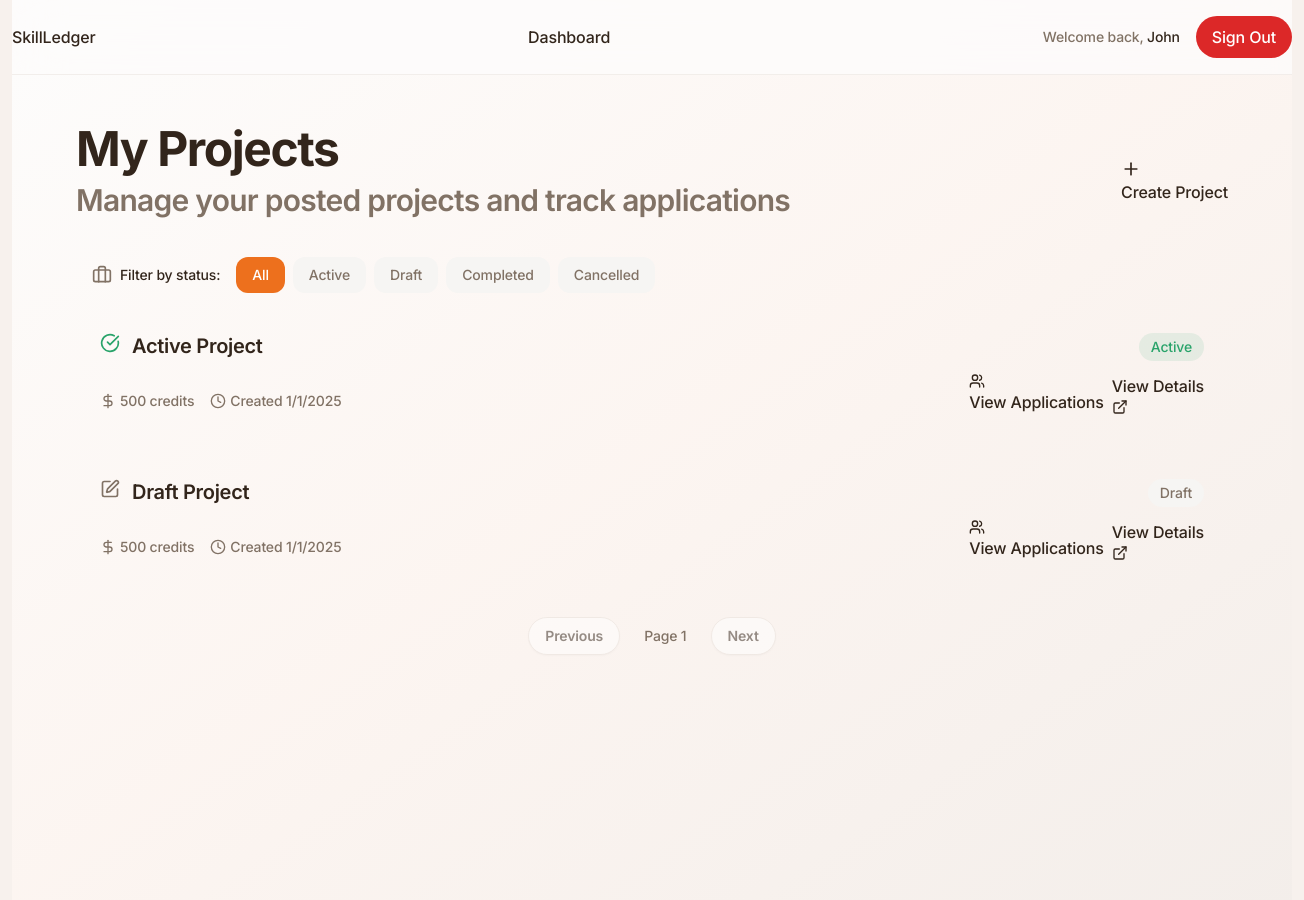
it: MyProjectsPage - Status Filtering › should filter projects by Active status
Expected: the heading "Active Project" is shown, [132,332,263,358]
Click the button "Active": (329, 274) [293,256,366,292]
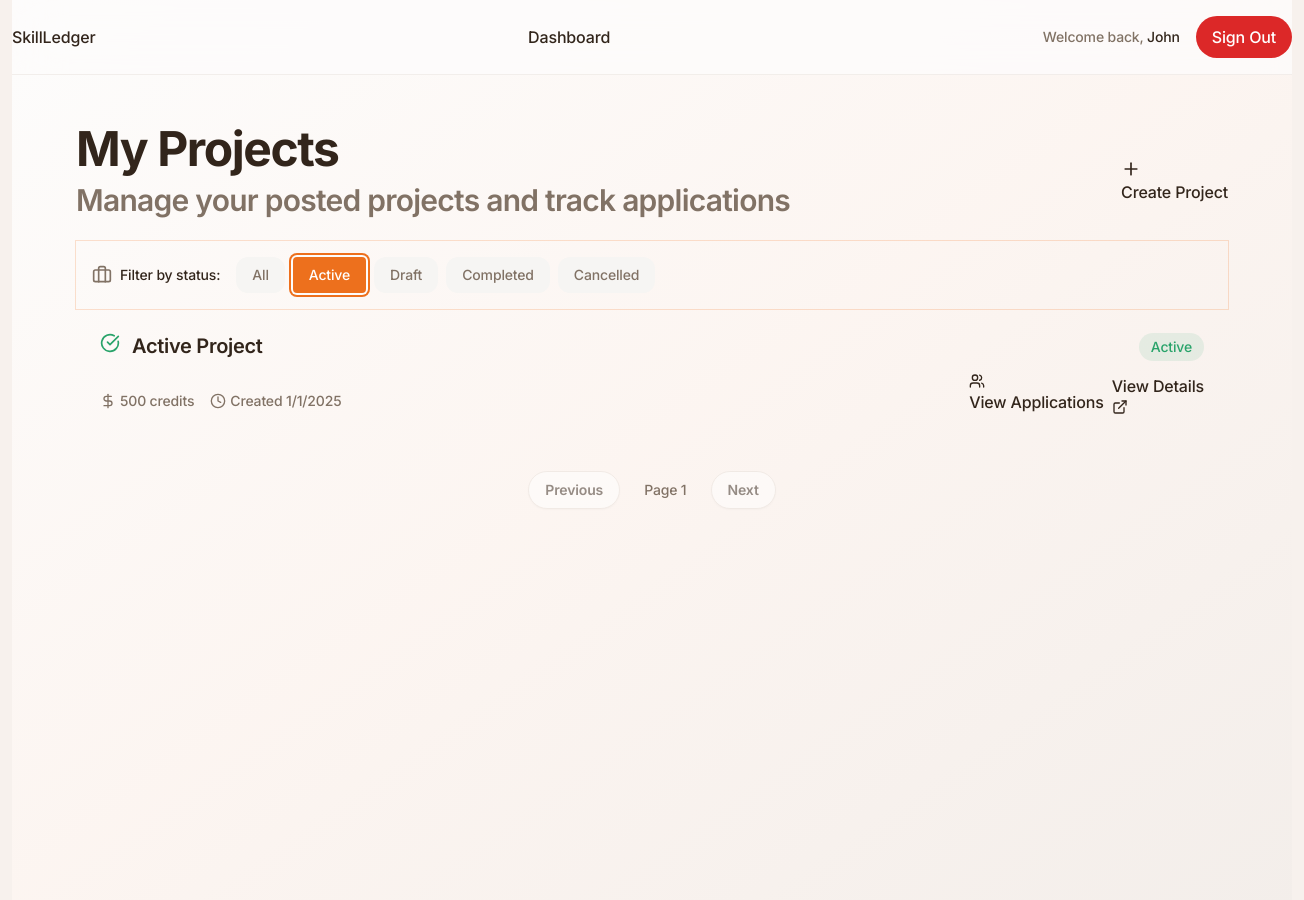
Expected: the heading "Active Project" is shown, [132,332,263,358]
Now the heading "Draft Project" is gone
